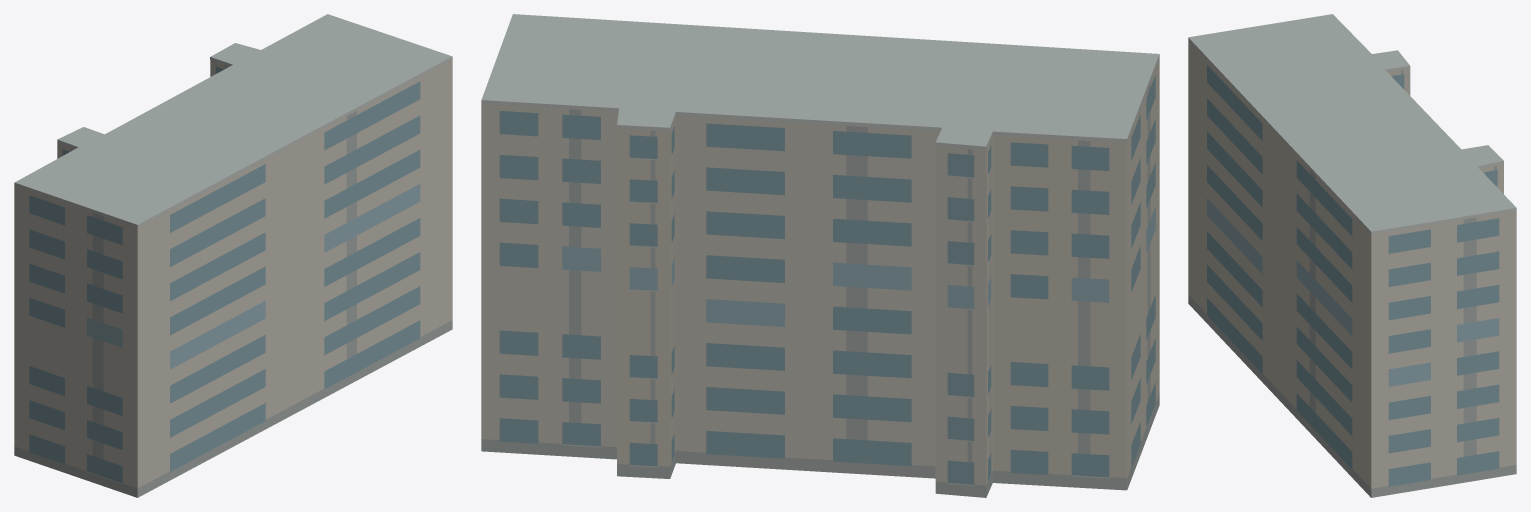
File: survey-upis-32759117.glb
3 renders of one model, left to right at view 1: azimuth 30°, elevation 25°; view 2: azimuth 150°, elevation 25°; view 3: azimuth 270°, elevation 25°, orthographic. The views are drawn at different scales.
Parts seen in each view (by area): view 1: survey-upis-32759117.tmp; view 2: survey-upis-32759117.tmp; view 3: survey-upis-32759117.tmp.
Boxes of the visible parts, box(x1,y1,x2,y2) form: survey-upis-32759117.tmp: box(14, 14, 452, 497); survey-upis-32759117.tmp: box(481, 14, 1159, 497); survey-upis-32759117.tmp: box(1188, 14, 1516, 497).
Bounding box in the file's own units: 37.55 × 21.4 × 23.95.
